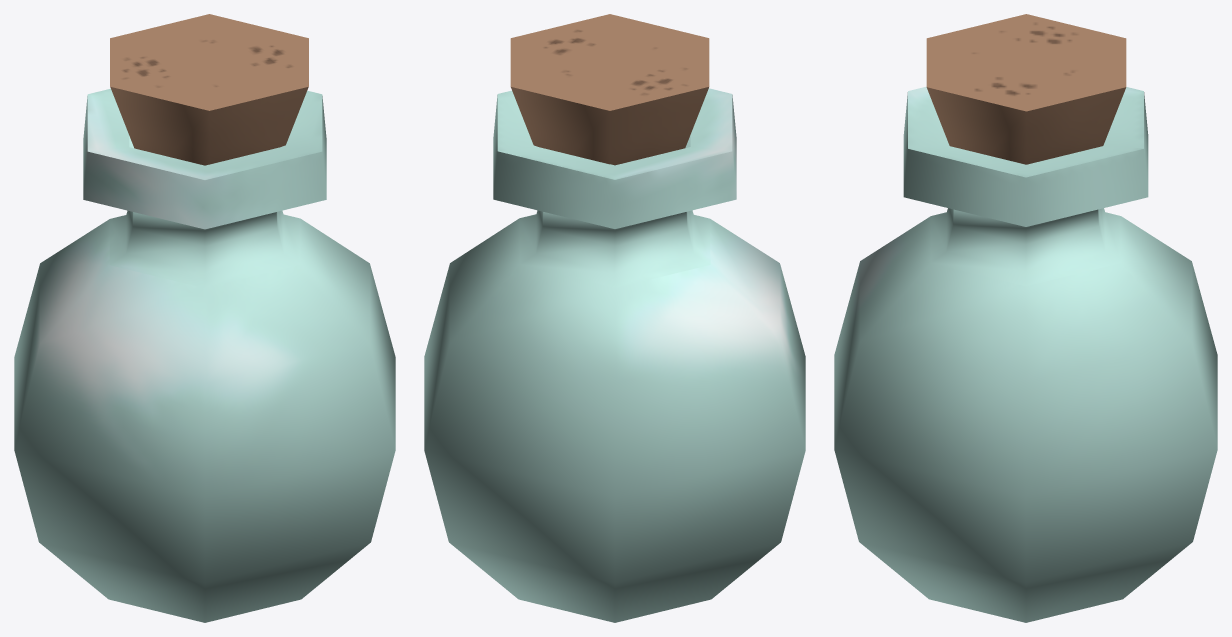
The model's file is propPotion_mesh.fbx.
The picture shows the model from 3 angles, left to right: view 1: azimuth 30°, elevation 25°; view 2: azimuth 150°, elevation 25°; view 3: azimuth 270°, elevation 25°; orthographic projection.
Parts seen in each view (by area): view 1: polySurface156, polySurface171; view 2: polySurface156, polySurface171; view 3: polySurface156, polySurface171.
Part boxes in pixels (left/top/right/bottom): polySurface156: left=14, top=88, right=395, bottom=622; polySurface171: left=110, top=14, right=308, bottom=165; polySurface156: left=424, top=88, right=805, bottom=622; polySurface171: left=510, top=14, right=709, bottom=165; polySurface156: left=834, top=86, right=1217, bottom=622; polySurface171: left=926, top=14, right=1126, bottom=164.
Size of the model in its own units: 19.09 by 25.34 by 16.53.
